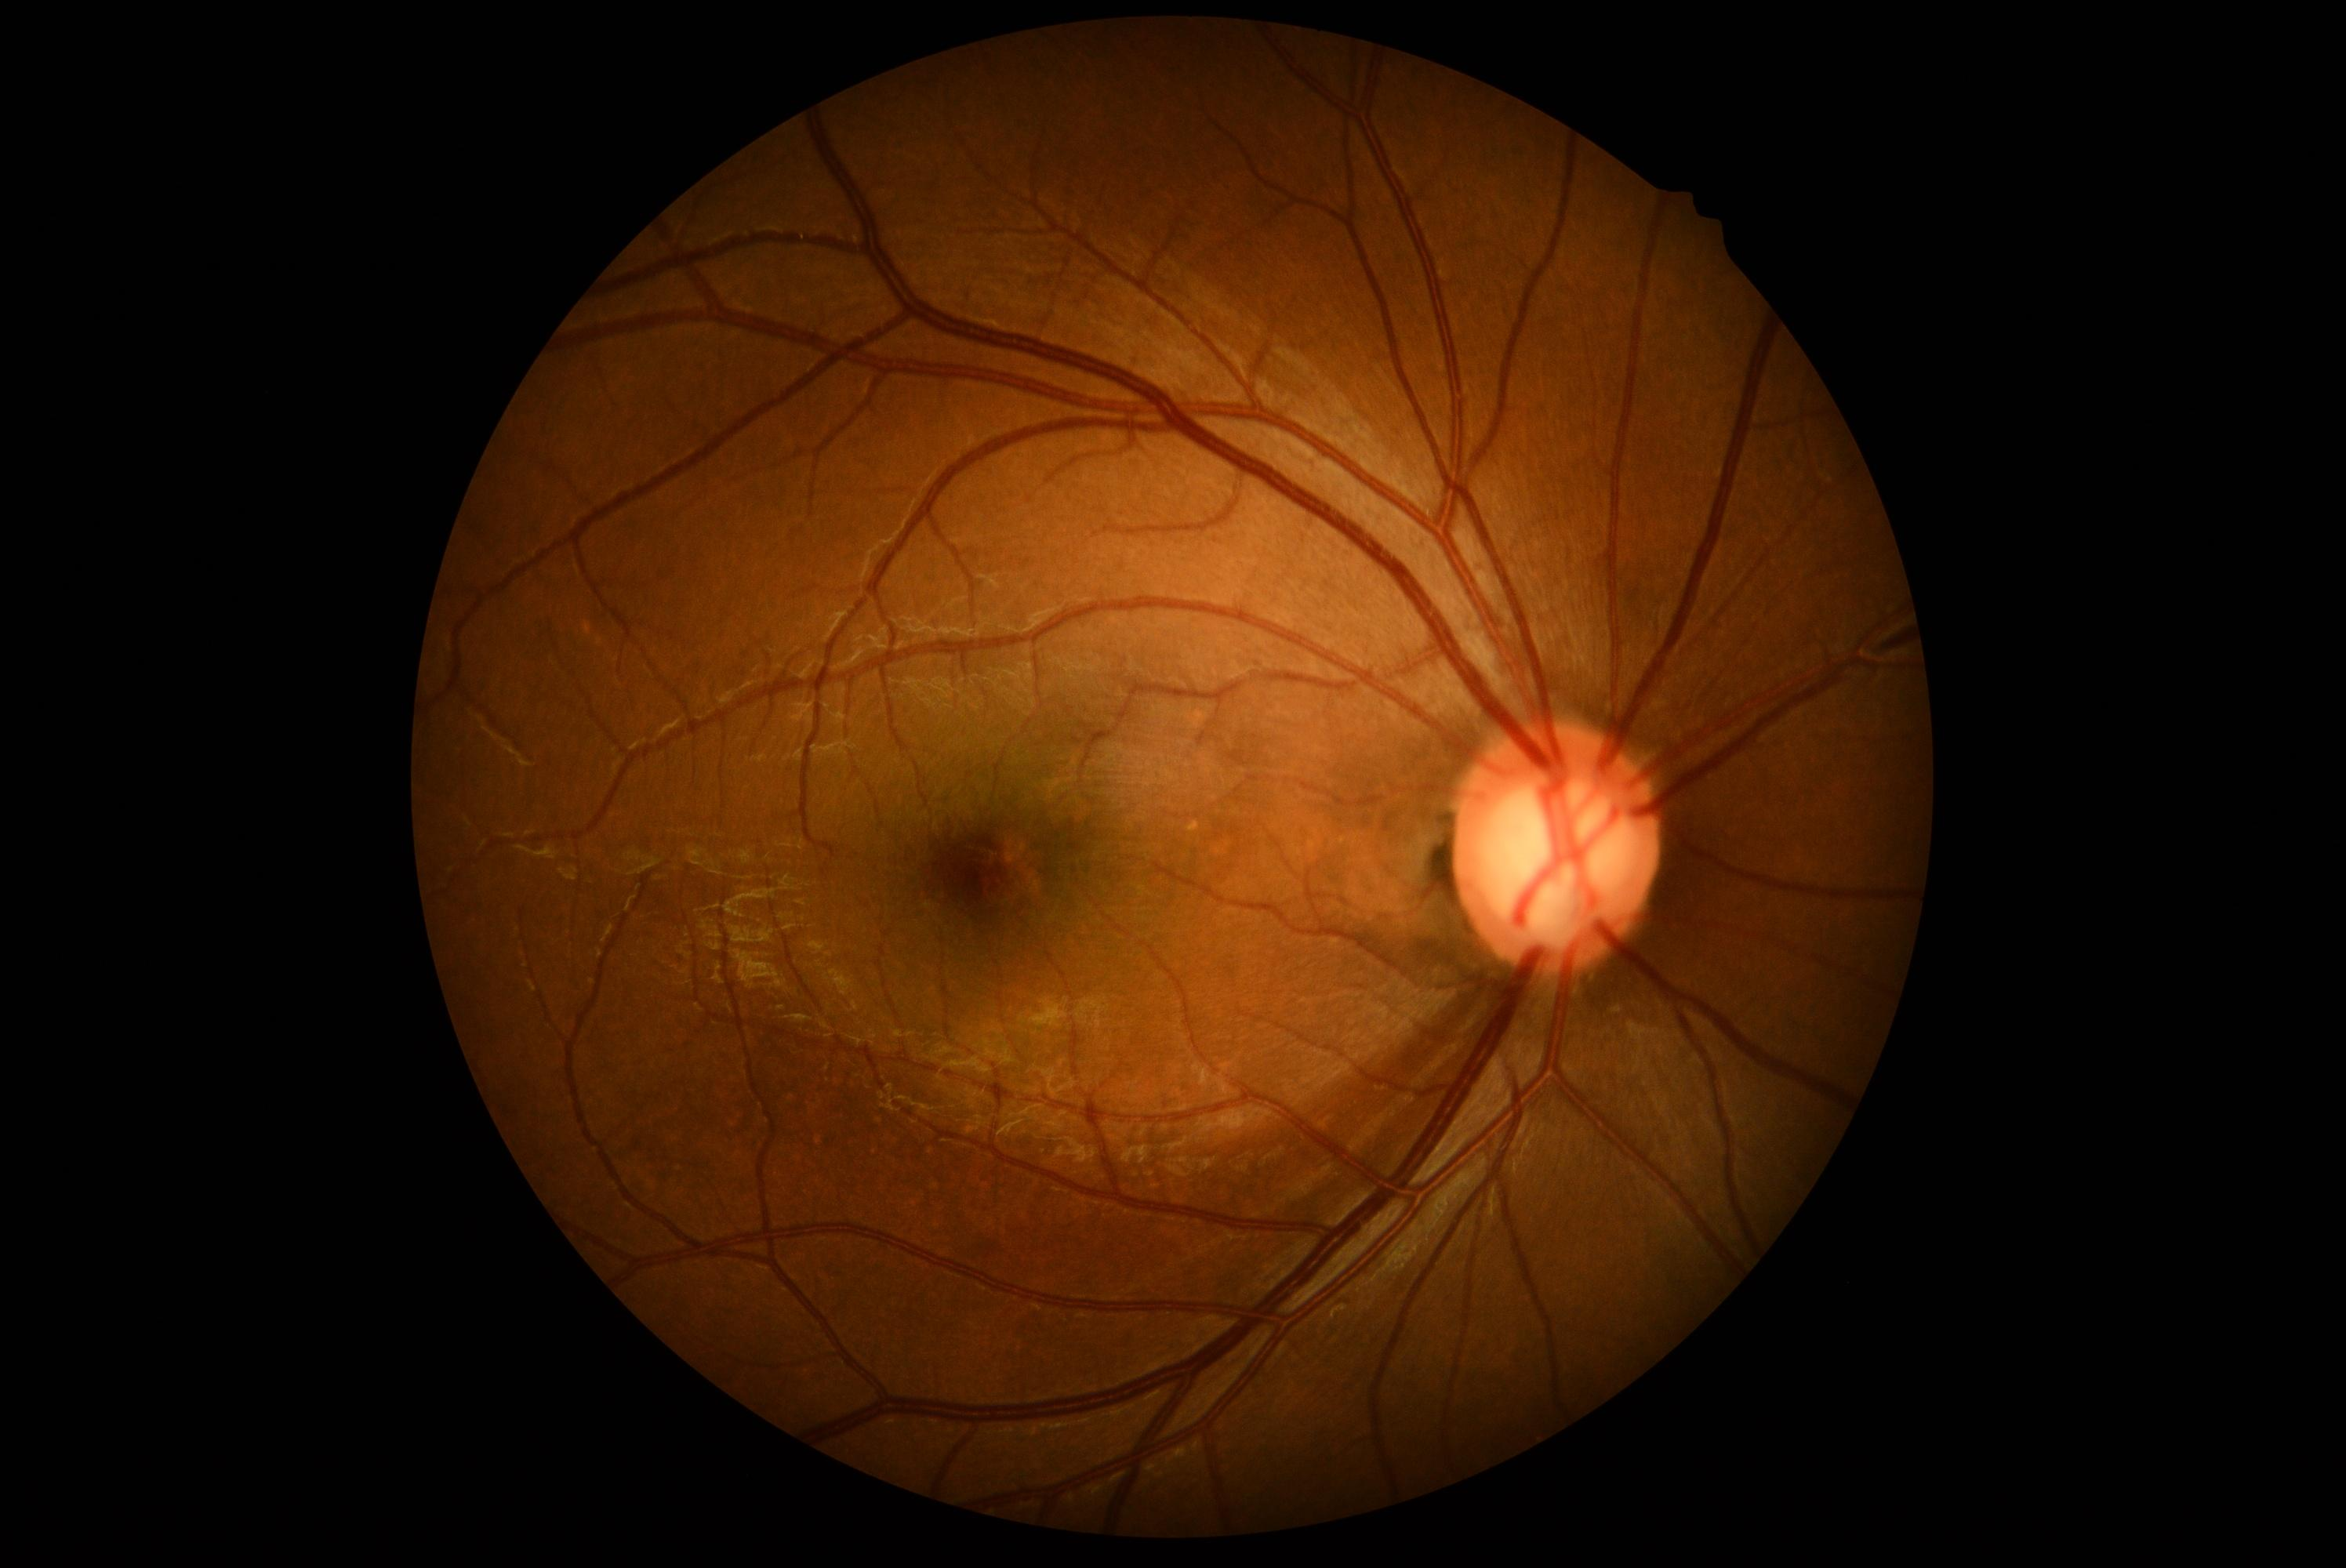Fovea: (899, 789, 1062, 954)
